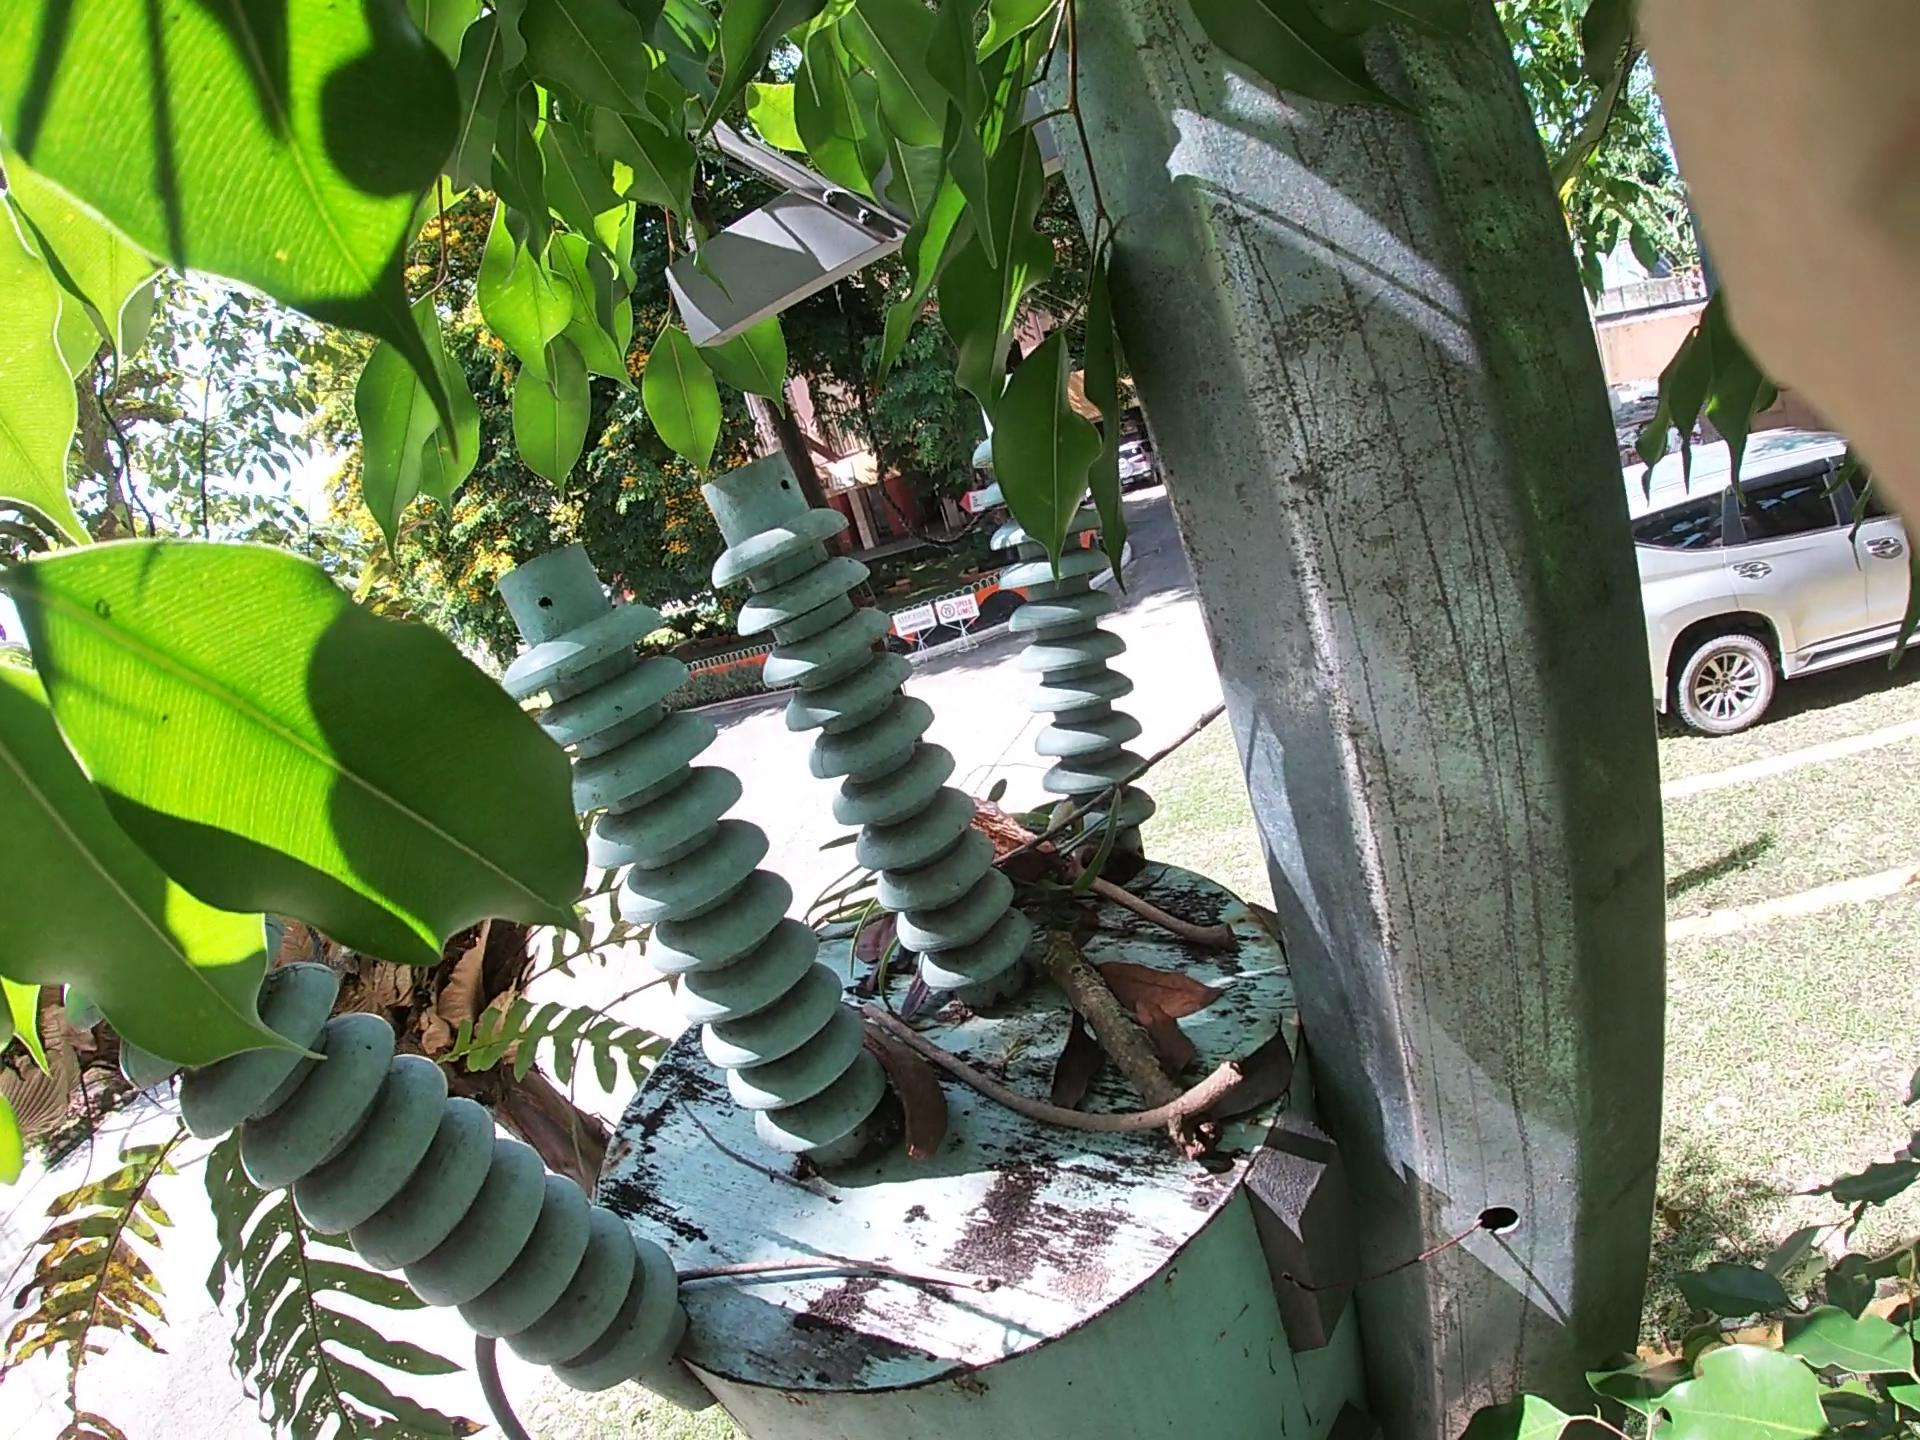leaf: (1132, 929, 1209, 1190)
tree branch: (919, 971, 1336, 1177), (1019, 891, 1234, 1199), (509, 1269, 1108, 1346), (1014, 839, 1214, 967)
